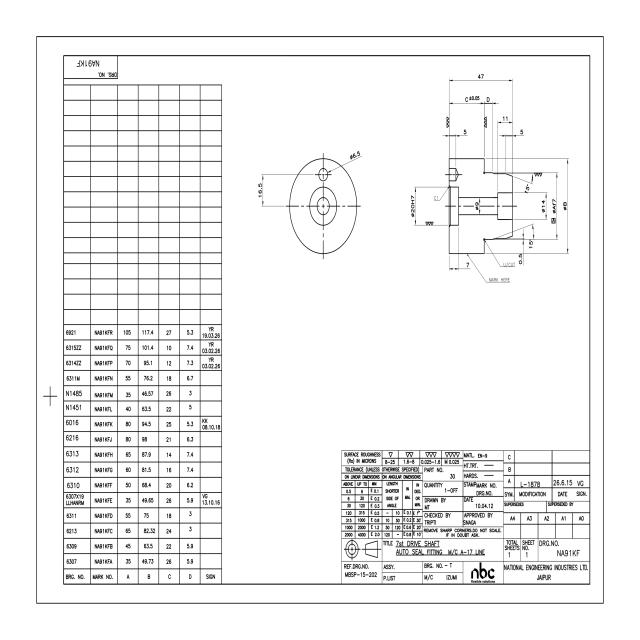dimension: (325, 148, 364, 175), (258, 171, 285, 209), (561, 157, 571, 255), (447, 73, 514, 86), (550, 171, 562, 241), (448, 92, 485, 107), (409, 182, 419, 228), (523, 221, 537, 250), (440, 127, 468, 141), (499, 126, 526, 140), (447, 257, 471, 272), (539, 192, 549, 222), (432, 185, 449, 202), (522, 172, 534, 195), (482, 94, 500, 108), (497, 113, 514, 127), (518, 232, 524, 268), (473, 196, 482, 216)
